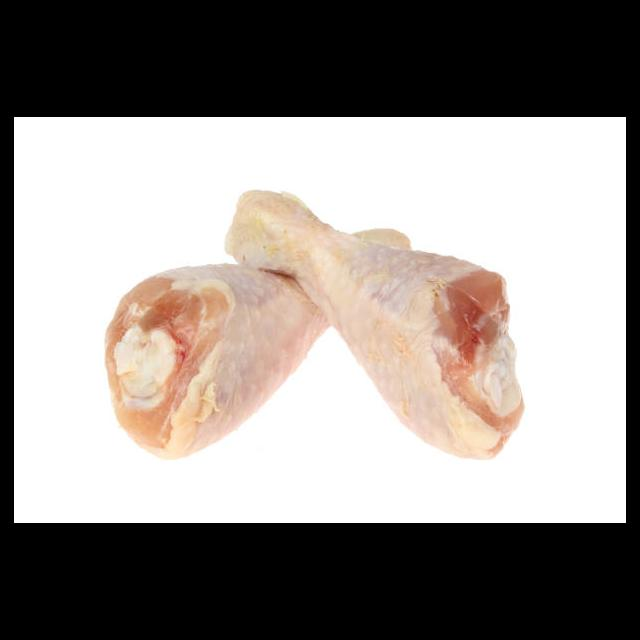chicken: (226, 190, 526, 462), (104, 228, 411, 457)
